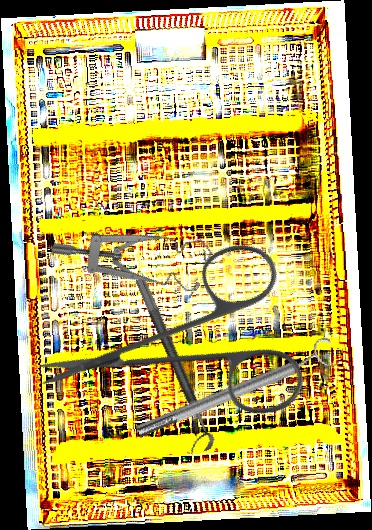Fixation Ring: (131, 334, 341, 447), (120, 276, 218, 457)
Iris Scissors: (30, 181, 356, 505)
Speculum: (48, 176, 221, 327)
